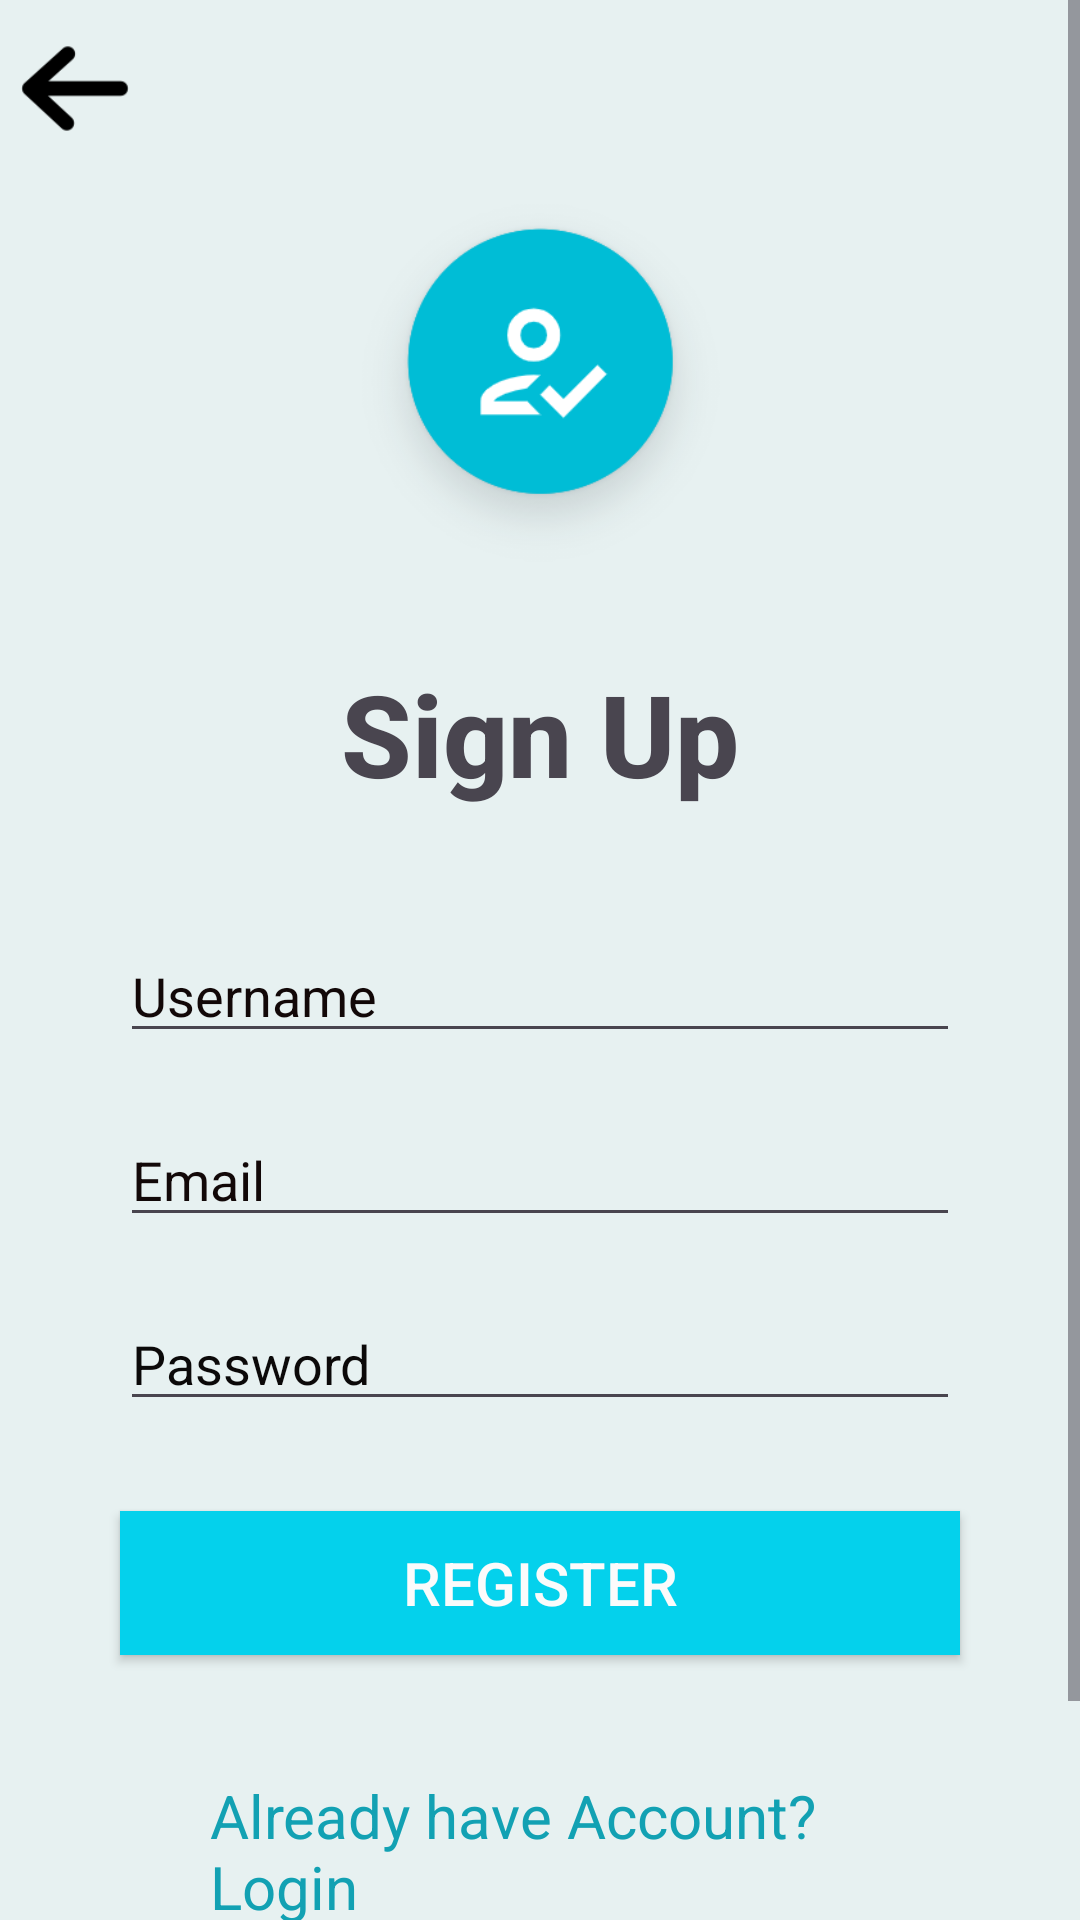

Screen size 1080 x 1920. Icon name, then its center in pixels as (x,y):
backbtn: (75,88)
